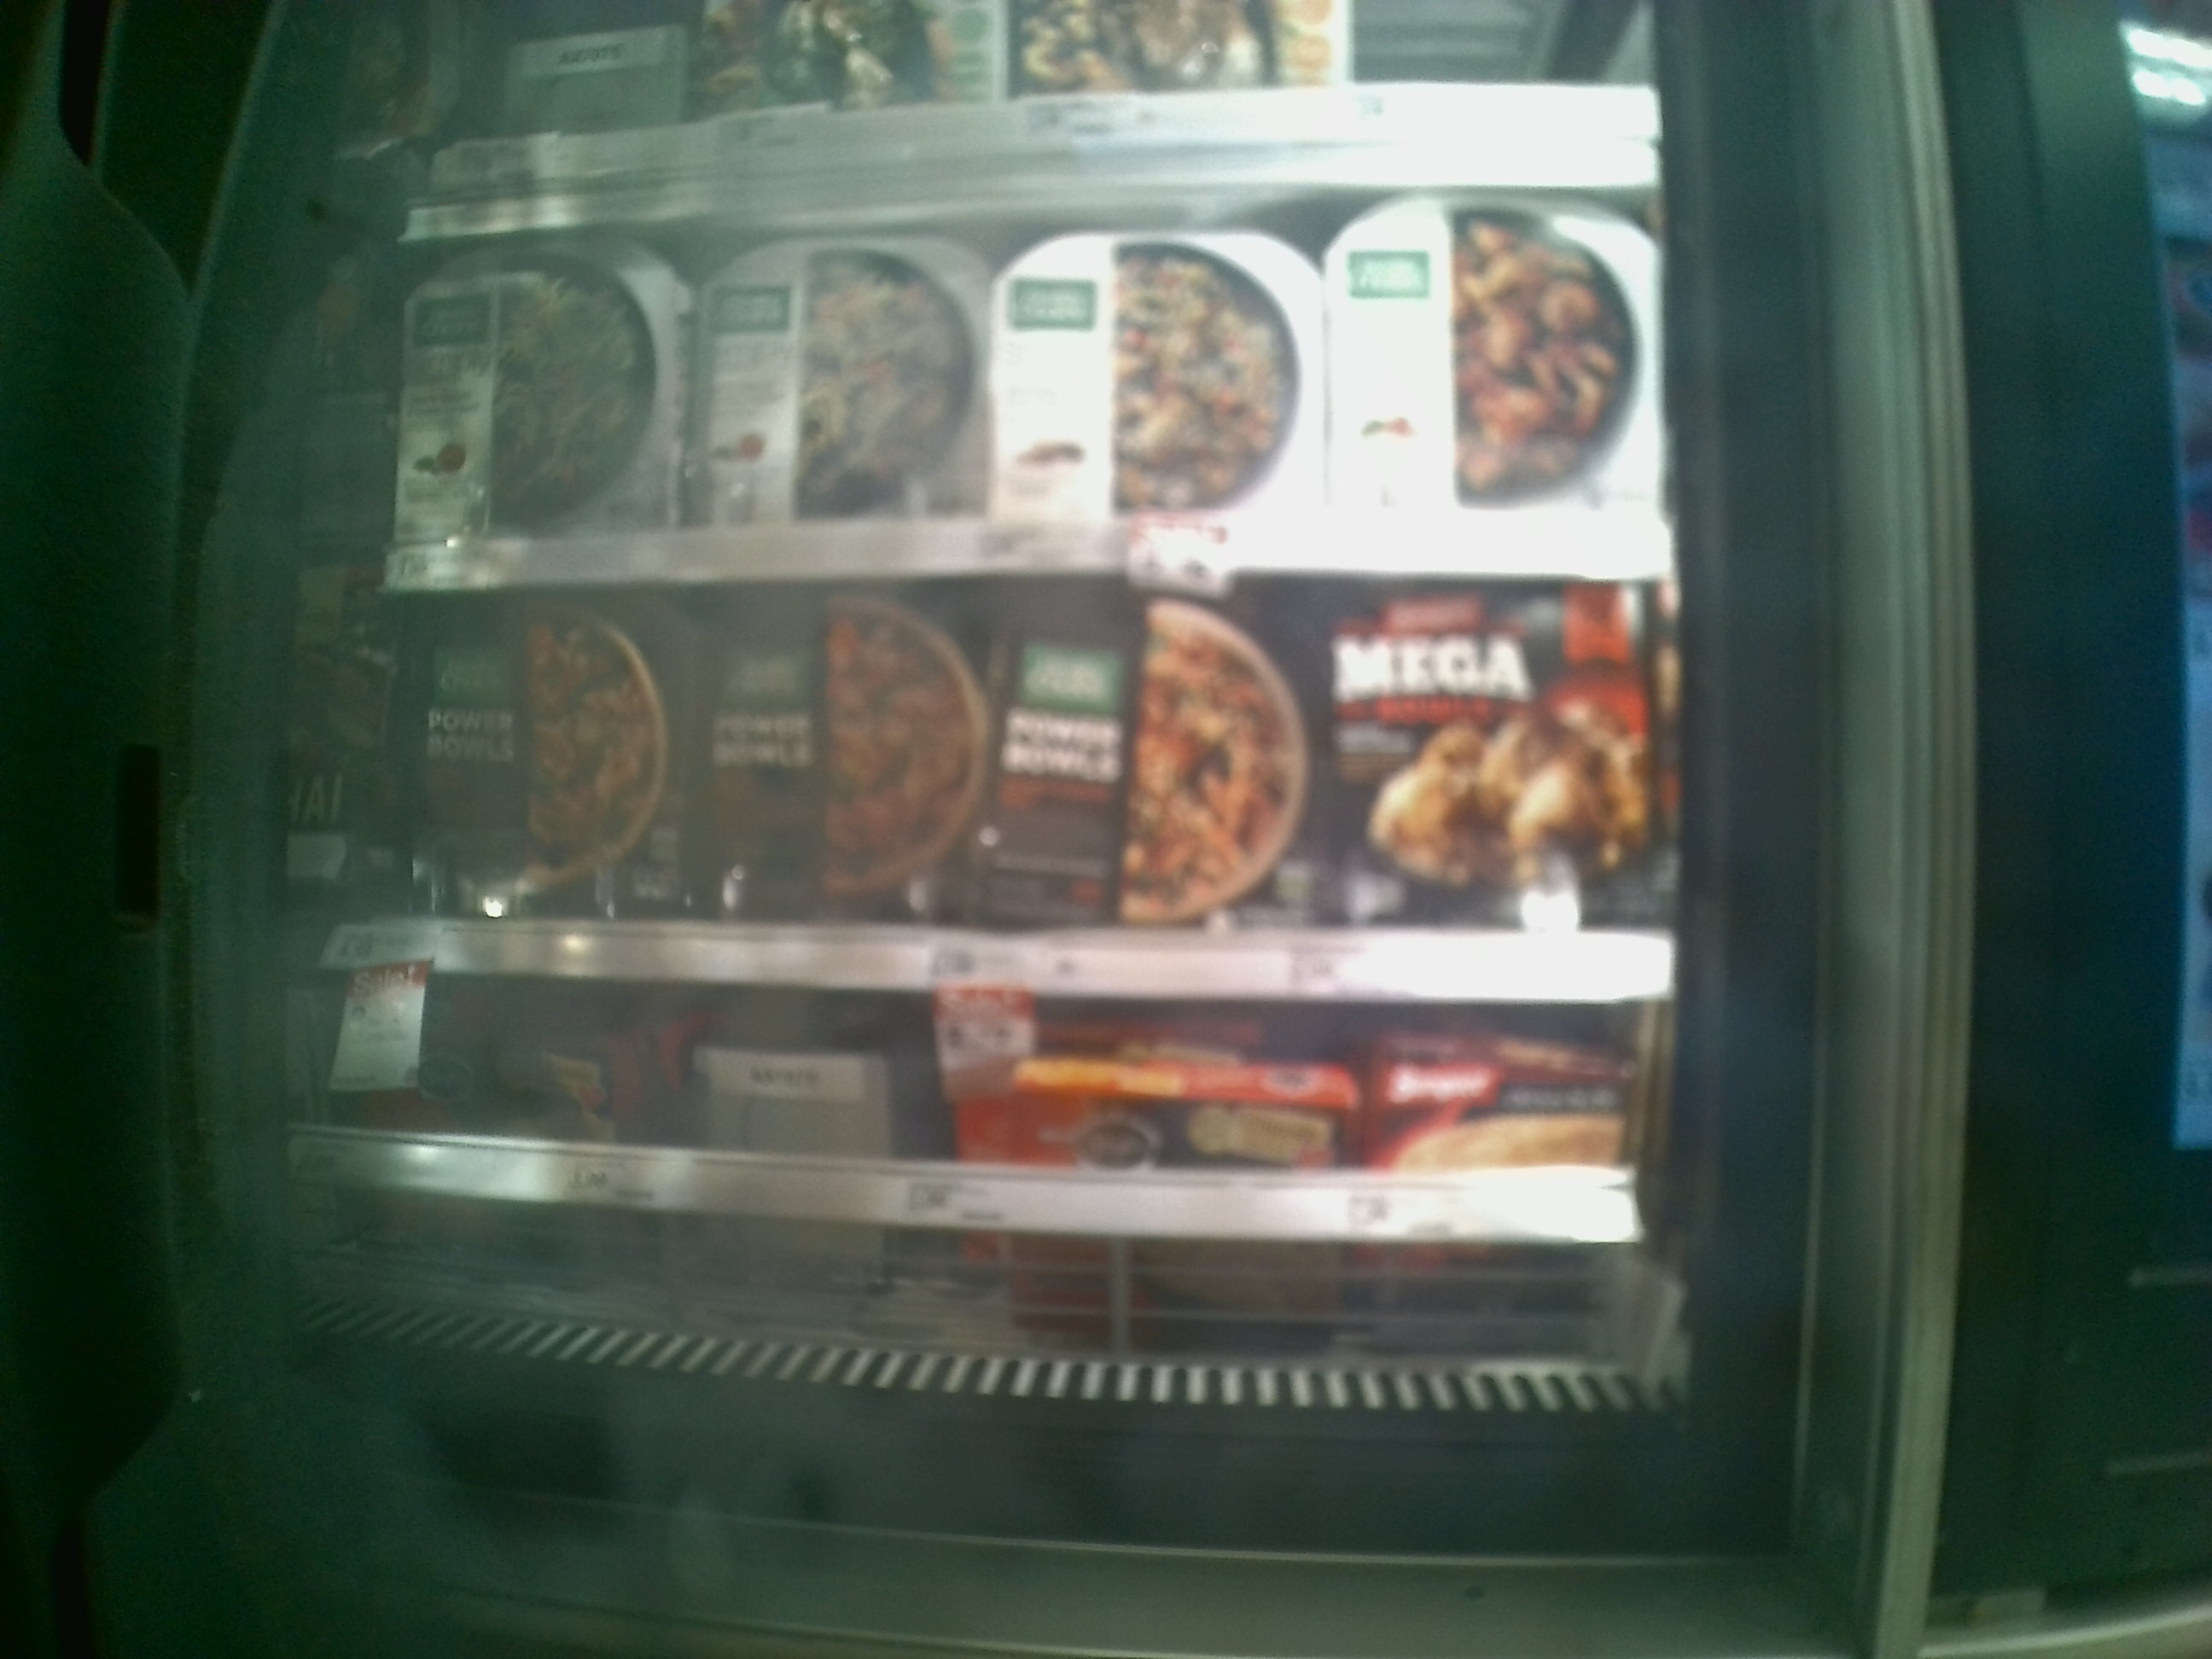shelf: (399, 575, 1681, 1000), (394, 234, 1665, 577)
